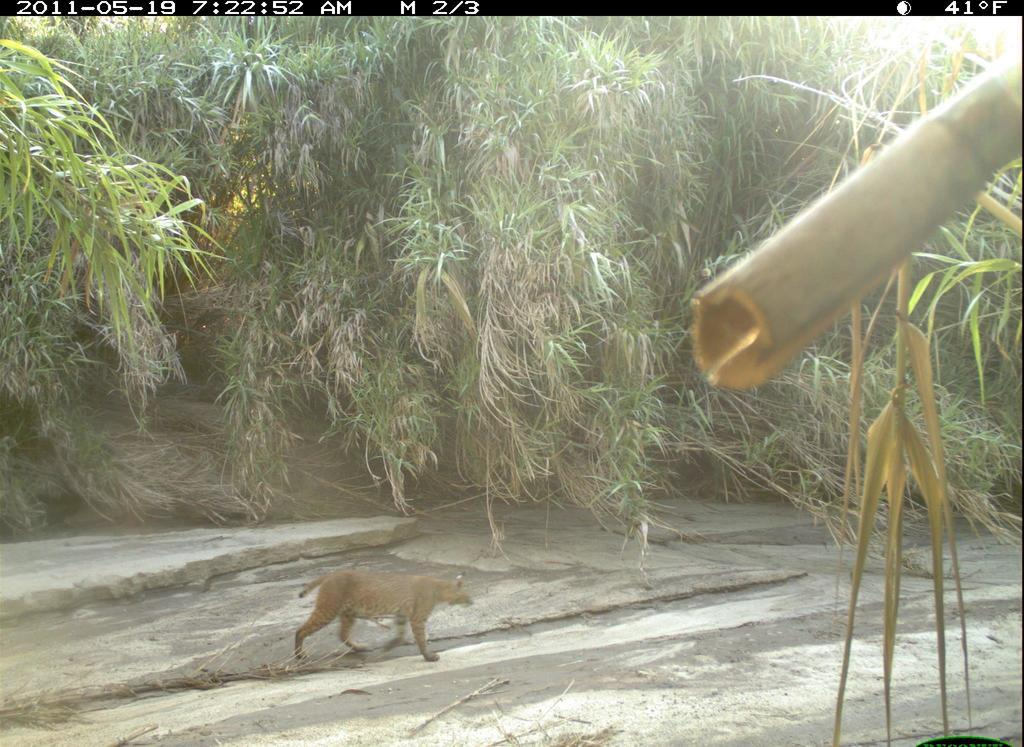bobcat: (291, 550, 487, 680)
